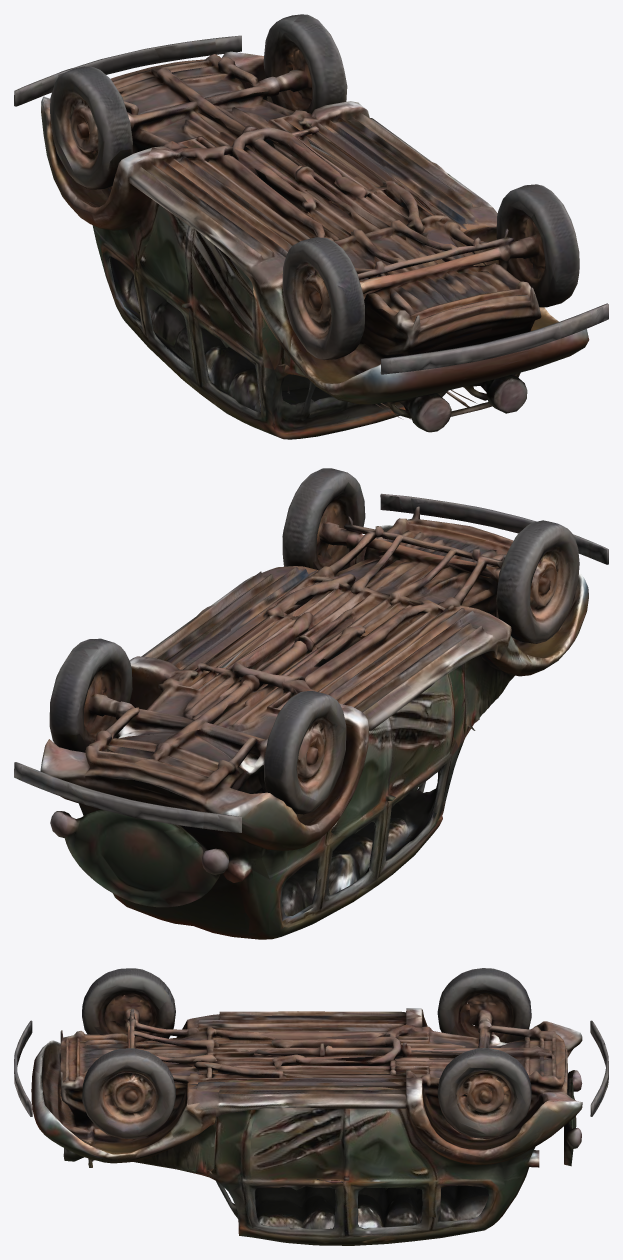
The model's file is wreck-sedan-overturned.glb.
3 views of the same model, one above another, from view 1: azimuth 30°, elevation 25°; view 2: azimuth 150°, elevation 25°; view 3: azimuth 270°, elevation 25° (orthographic). The views are drawn at different scales.
Visible parts, largest first — view 1: model; view 2: model; view 3: model.
Part boxes in pixels (x1=…): model: x1=14, y1=14, x2=608, y2=439; model: x1=14, y1=468, x2=608, y2=939; model: x1=14, y1=968, x2=608, y2=1245.
Size of the model in its own units: 1.66 by 1.77 by 4.5.
Materials: 1 (1 with a texture image).
